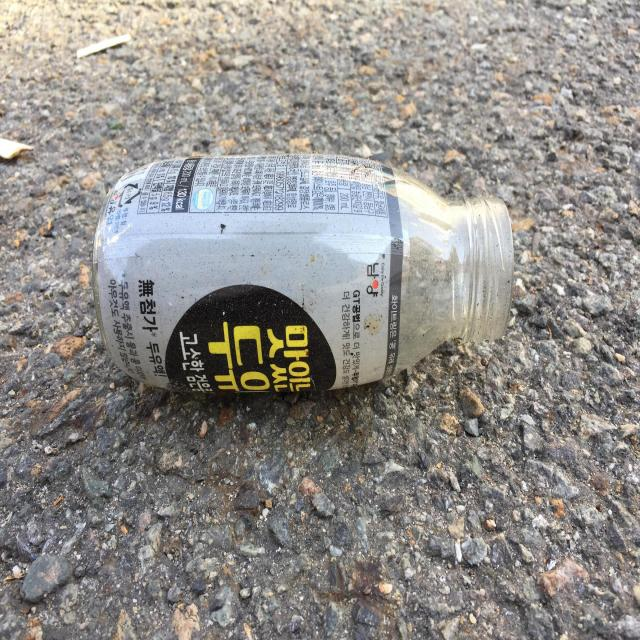glass: (92, 153, 514, 394)
